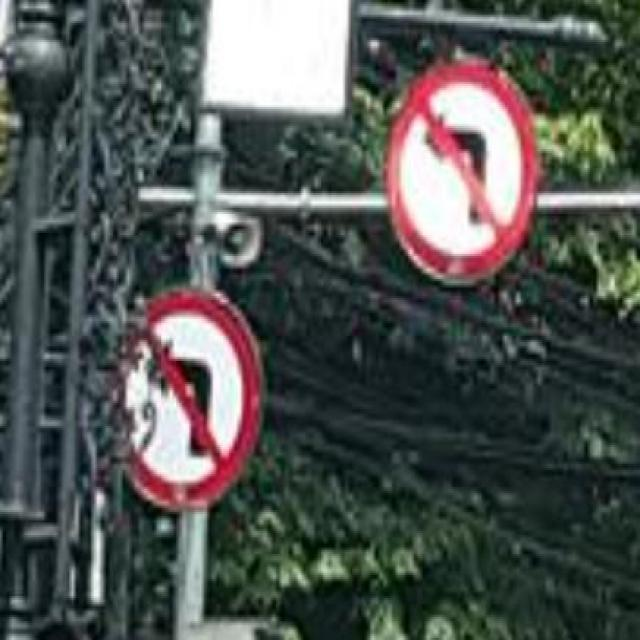traffic sign: (394, 59, 535, 269), (159, 290, 259, 504)
